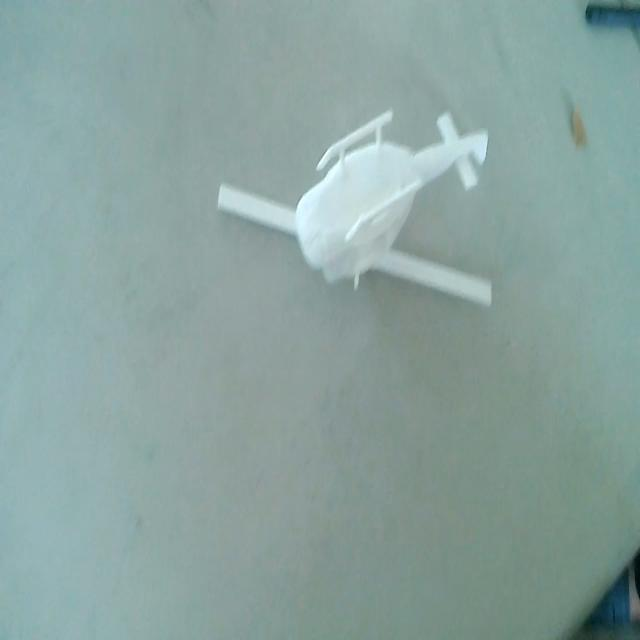Helicopter: (215, 102, 497, 308)
